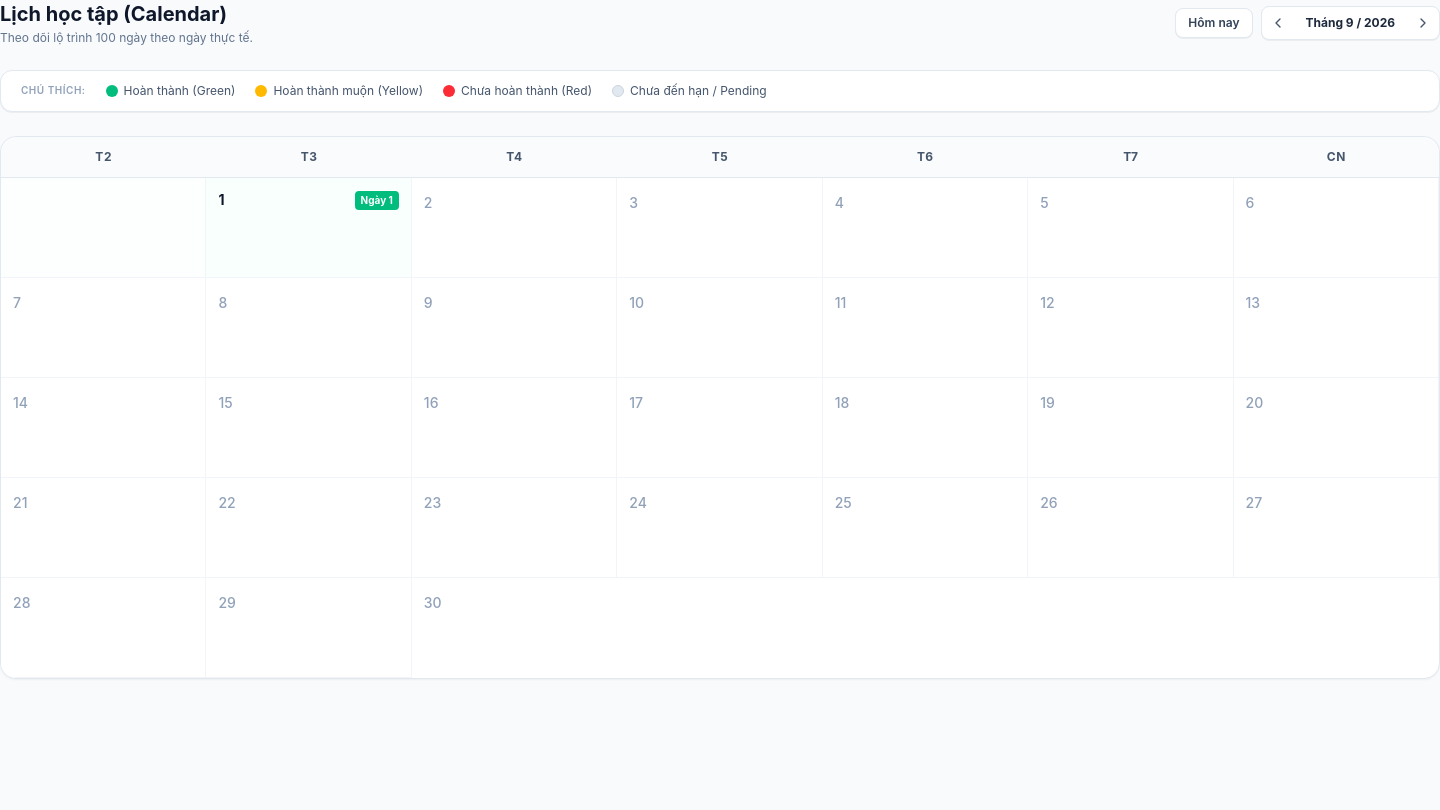
Test case: Milestone F11 — Calendar Real DOM Interaction Tests › renders calendar month view with accessible Study Day buttons, and opens day detail modal
Expected: the heading "Lịch học tập (Calendar)" is shown, [0,0,253,28]
Expected: the text "Hoàn thành (Green)" is shown, [124,83,235,99]
Click Day 1 button to open modal
Step 1. Click the button with aria-label "Ngày 1, Ngày học 1" → (309, 228), box [206,178,412,278]
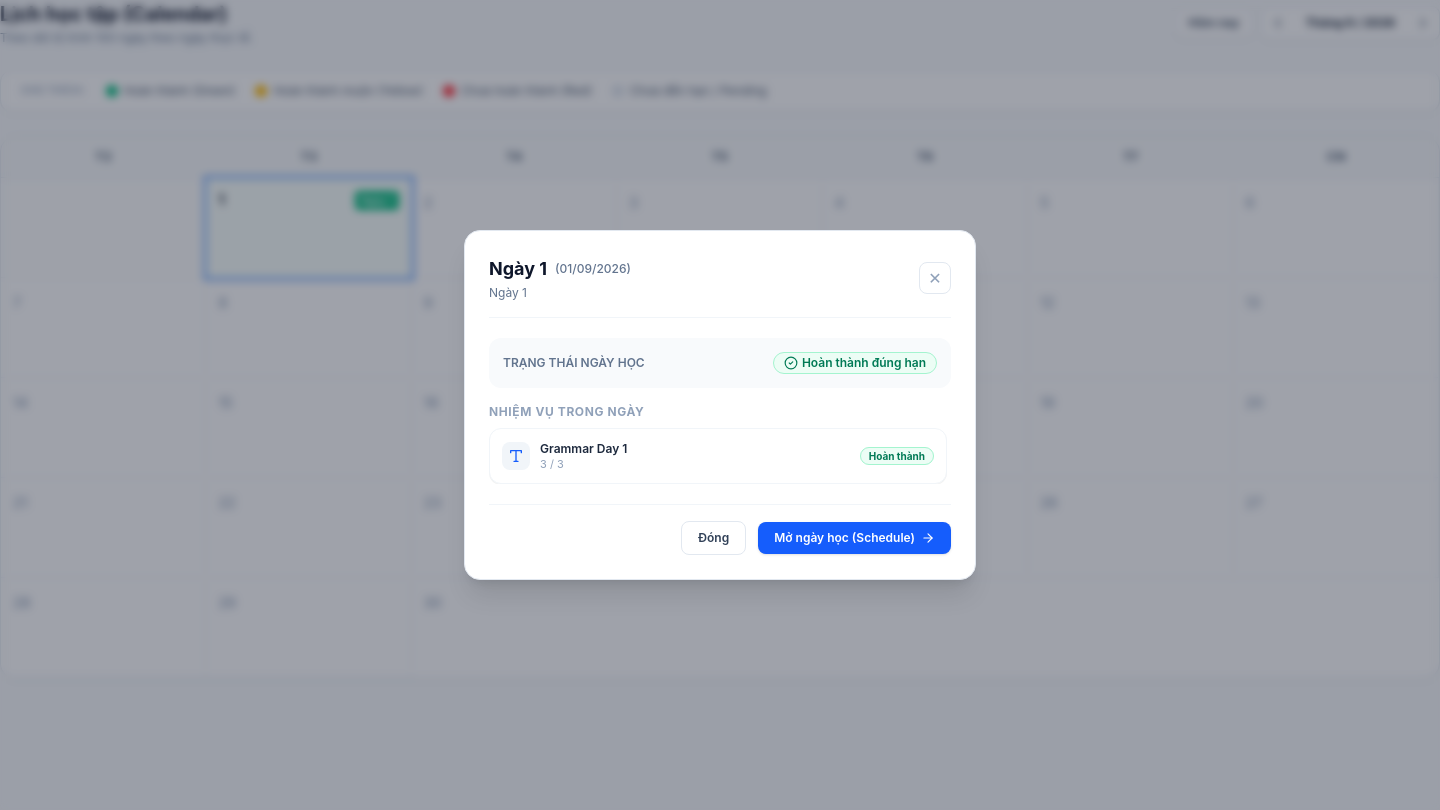
Result: the dialog is shown
Result: the text "Grammar Day 1" is shown at [540,441,627,457]
